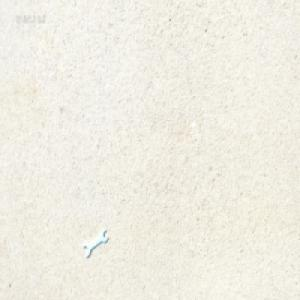Wrench: (84, 230, 108, 258)
